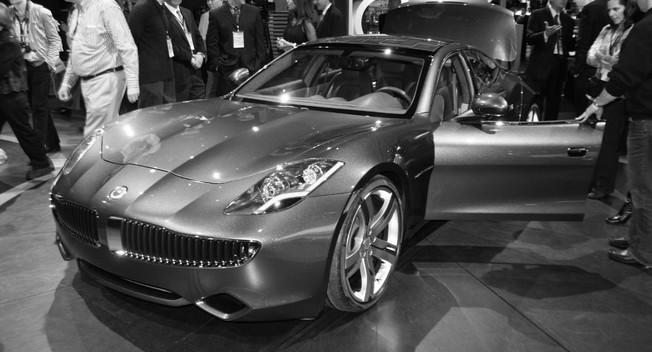car: (49, 34, 610, 326)
